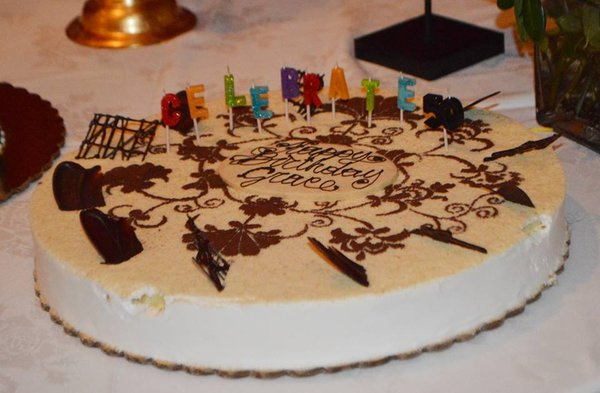curry: (2, 0, 581, 389)
sandwich: (68, 0, 196, 50)
soup: (495, 1, 600, 156)
sushi: (35, 76, 574, 379), (0, 81, 67, 203)
